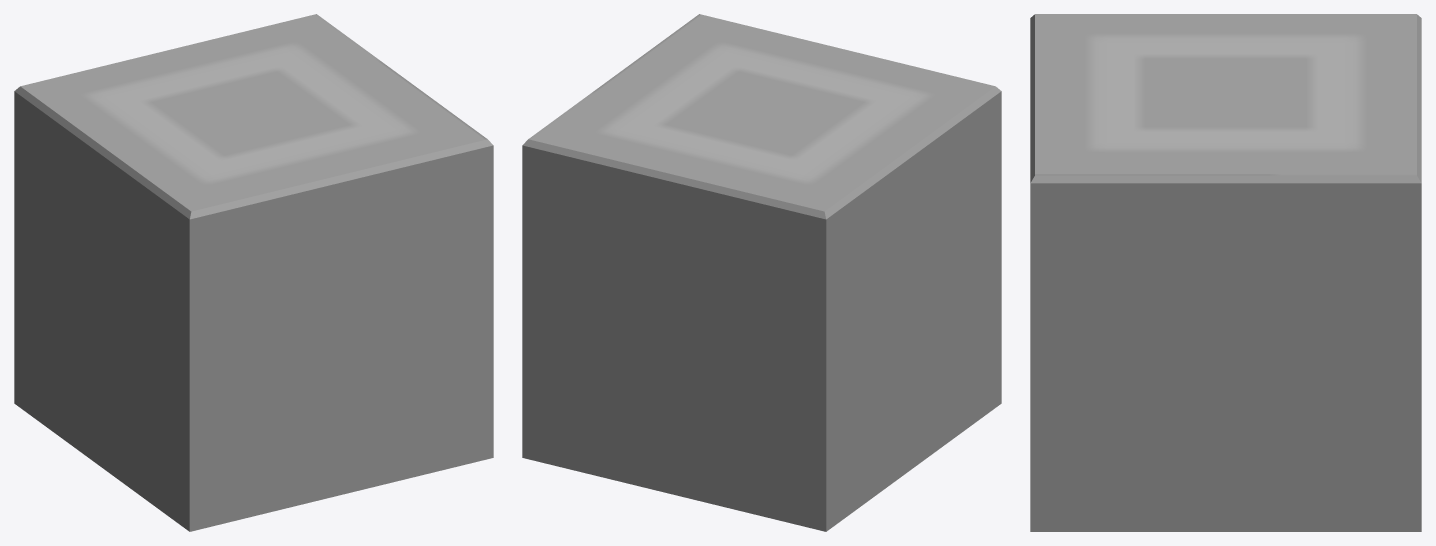
The model's file is diji02.FBX.
3 renders of one model, left to right at view 1: azimuth 30°, elevation 25°; view 2: azimuth 150°, elevation 25°; view 3: azimuth 270°, elevation 25°, orthographic. The views are drawn at different scales.
Visible parts, largest first — view 1: diji02; view 2: diji02; view 3: diji02.
Boxes of the visible parts, <box> form: diji02: <box>14,14,493,531</box>; diji02: <box>522,14,1001,531</box>; diji02: <box>1030,14,1421,531</box>.
Size of the model in its own units: 100 by 100 by 100.
